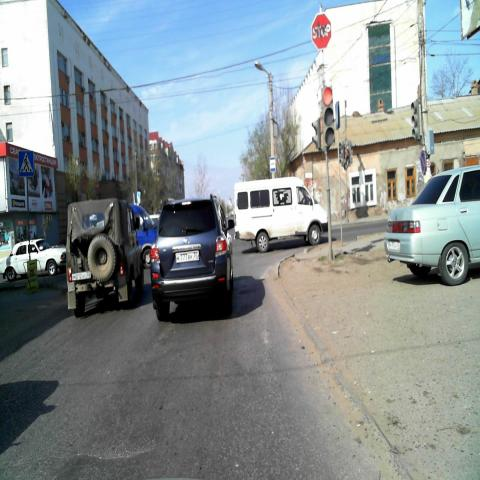2_5: (311, 11, 333, 52)
3_28: (419, 147, 426, 173)
